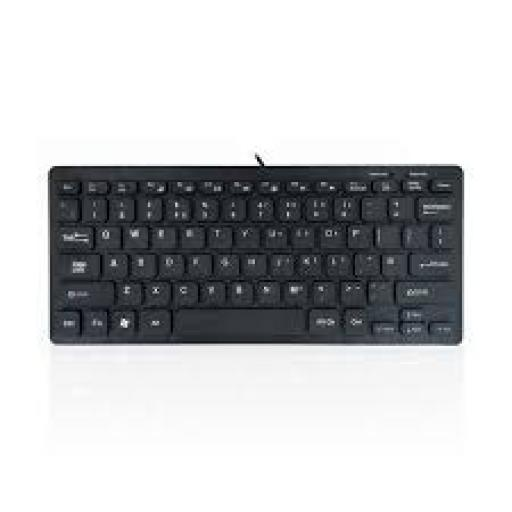KEYBOARD-2: (52, 166, 460, 341)
